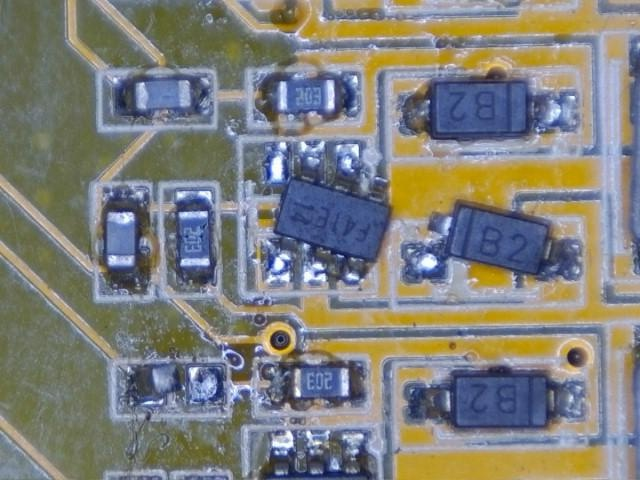pcb_defect: (264, 140, 392, 286), (403, 199, 582, 282), (128, 363, 225, 406)
